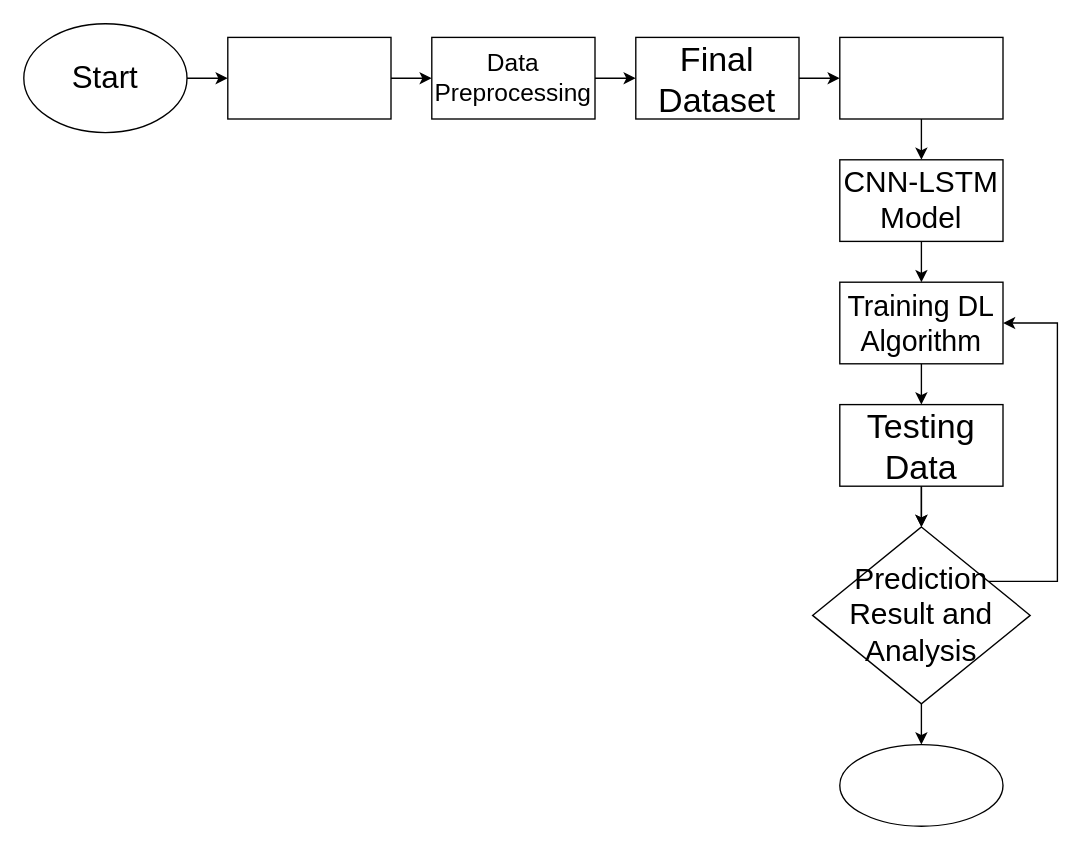
The diagram is 1092 pixels wide and 850 high, and some of its shapes have lost their labels. The box of each missing label's shape, as (x1, y1, x2, y2) in pixels:
Data Collection: (226, 36, 391, 119)
End: (838, 743, 1003, 826)
Split Test and Train Datasets: (838, 36, 1003, 119)
